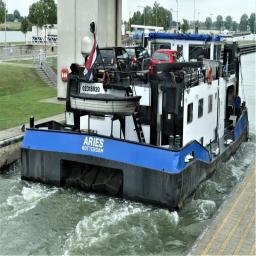tugboat: (21, 30, 252, 220)
